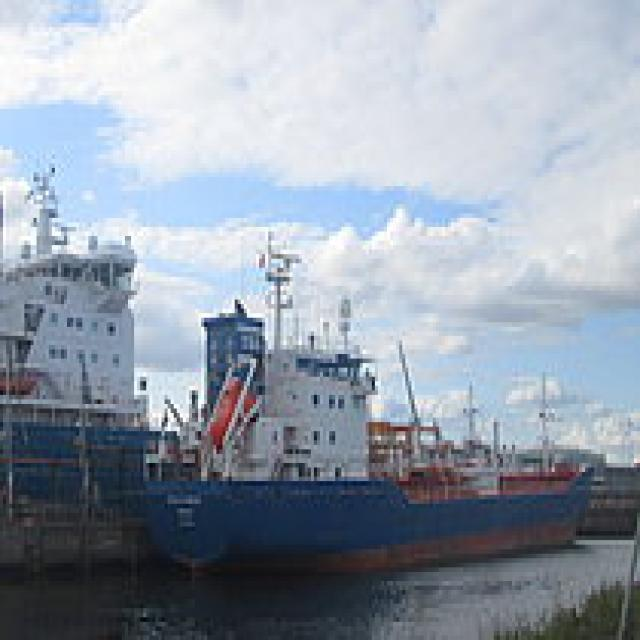Tanker: (128, 222, 591, 590), (0, 136, 216, 590)
